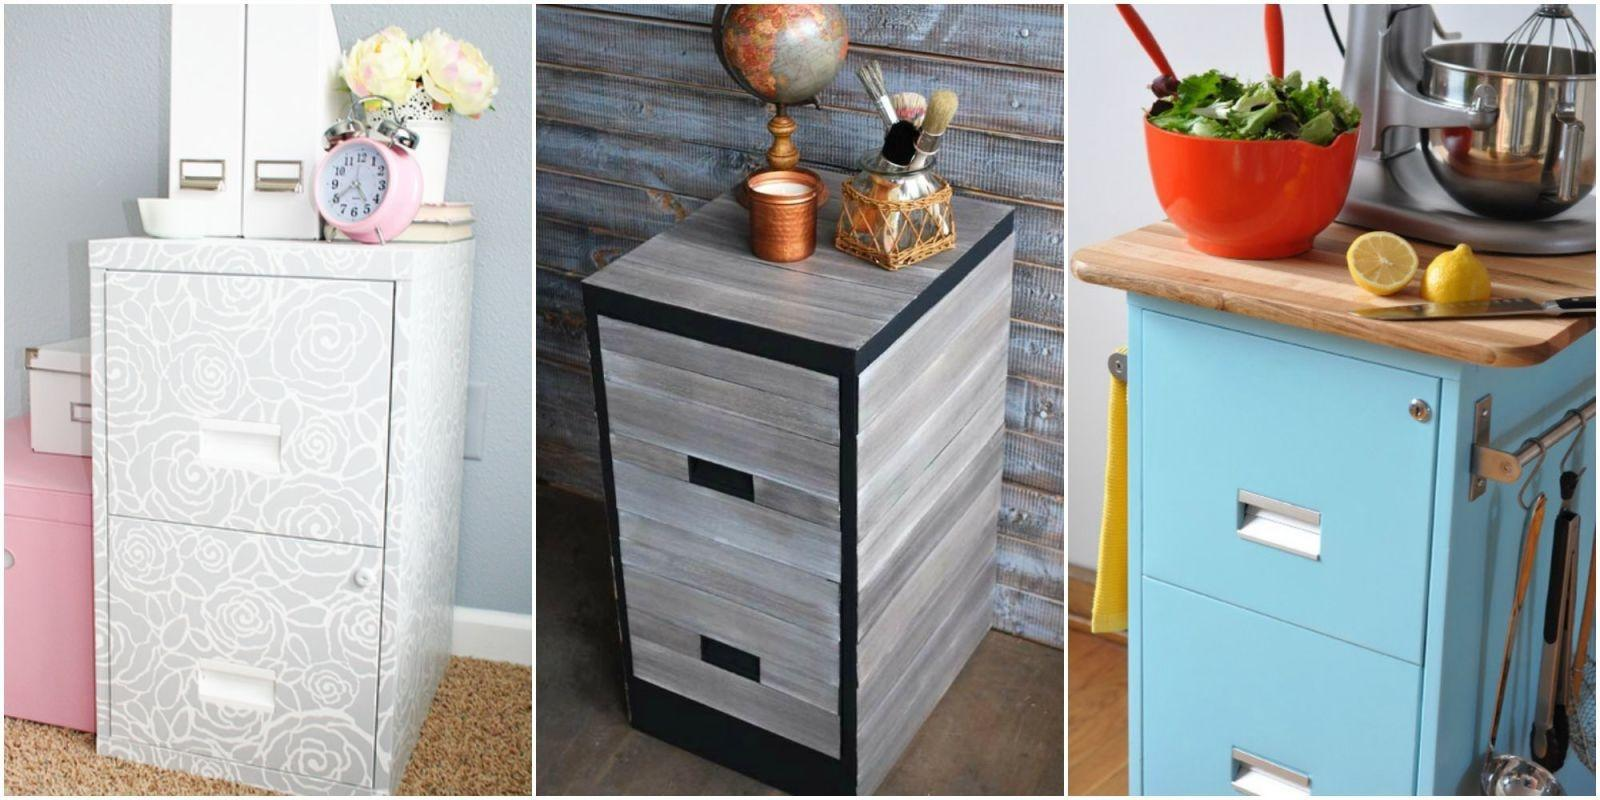Filing Cabinet: (85, 239, 411, 799), (1124, 286, 1462, 799), (579, 279, 857, 799)
